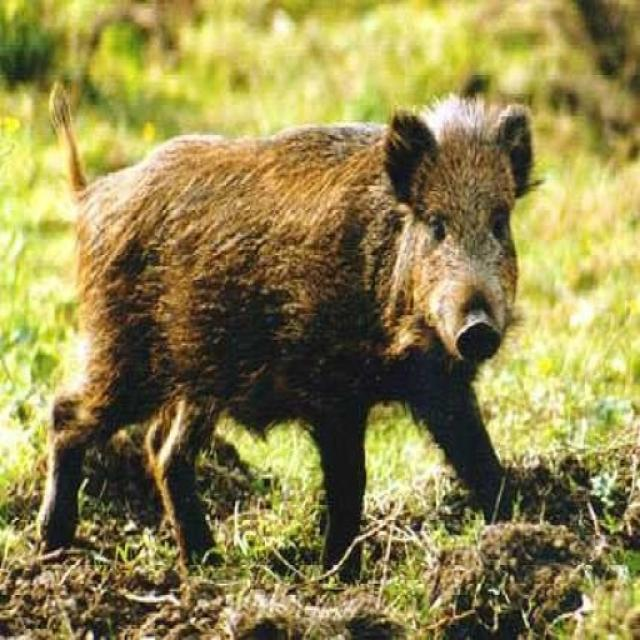pig: (23, 65, 640, 634)
